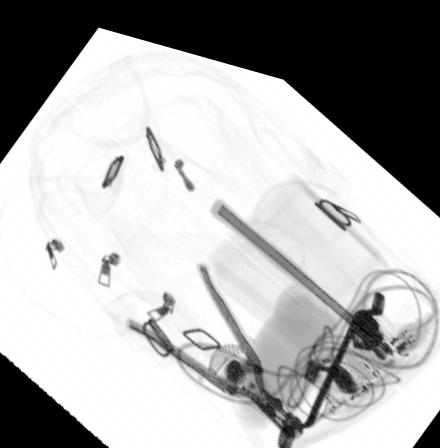Hammer: (205, 182, 384, 334)
Pliers: (123, 251, 305, 427)
Wrench: (274, 270, 387, 435)
